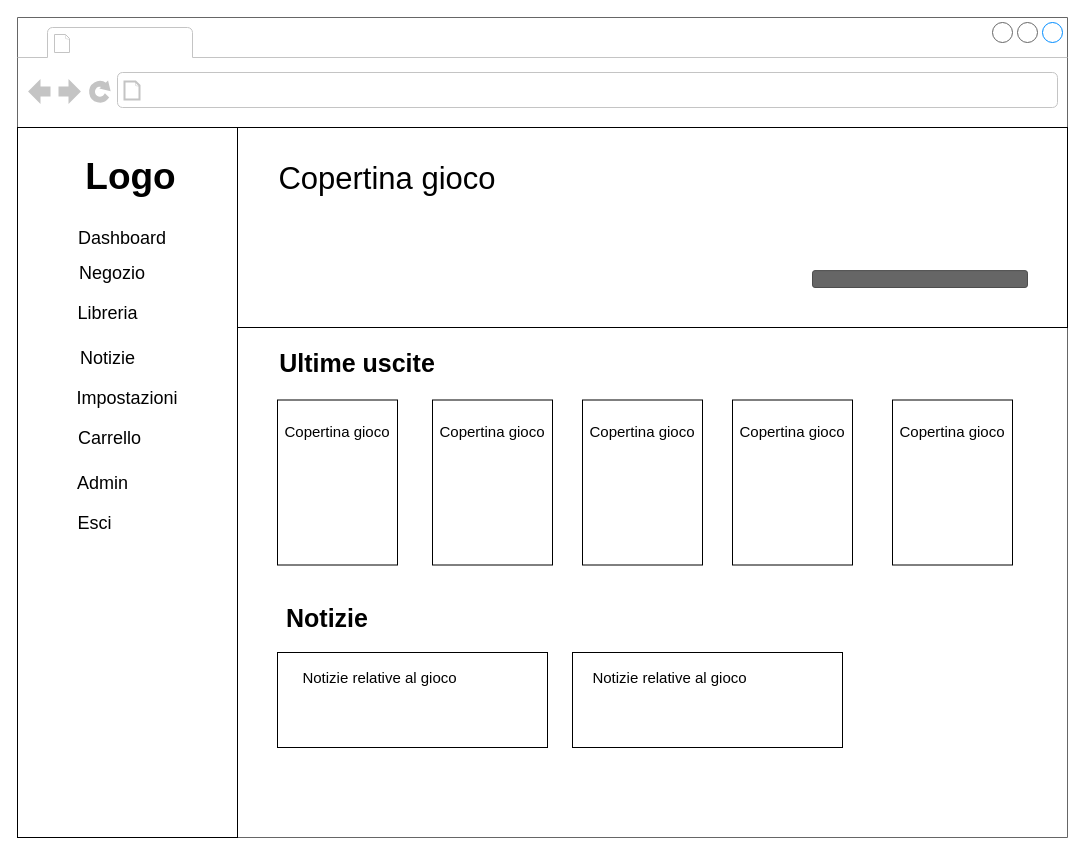
Image size: 1085x855. Some labels were removed from this diagram. The centre of each missing label's shape, as x and y in pixels:
https://www.default.com: [272,90]
Page 1: [132,42]
Vai alla pagina del gioco: [920,279]
